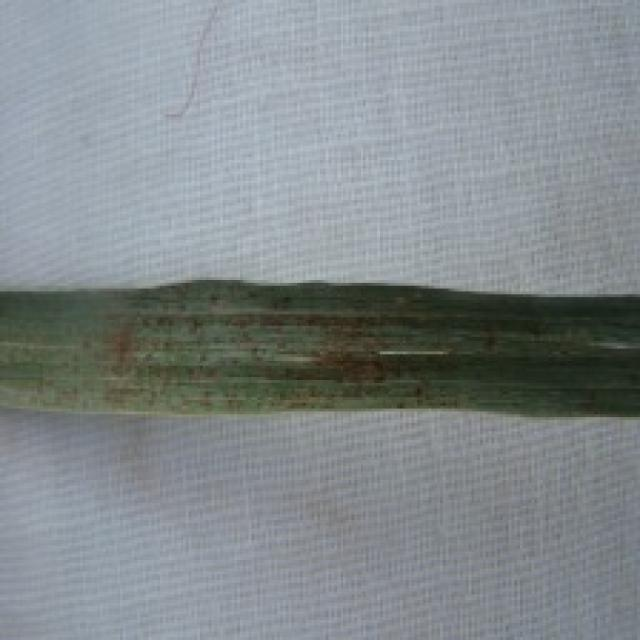Brown_Spot: (78, 316, 217, 401), (283, 319, 401, 405), (455, 306, 524, 373)
